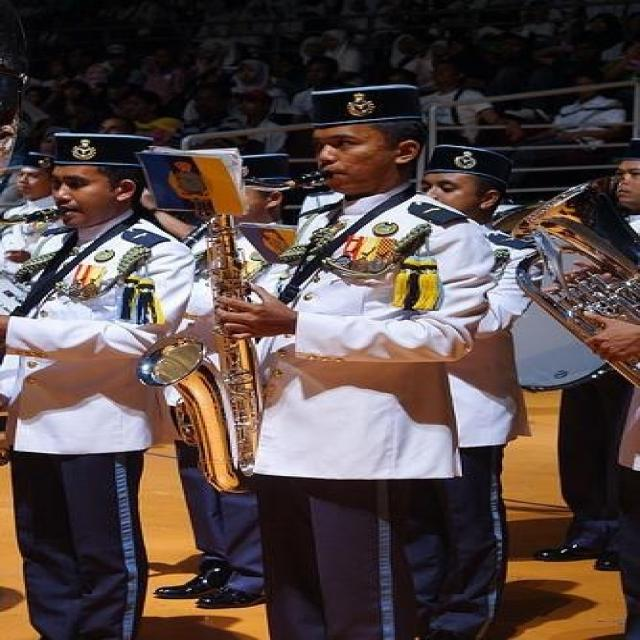saxophone: (142, 172, 342, 498)
